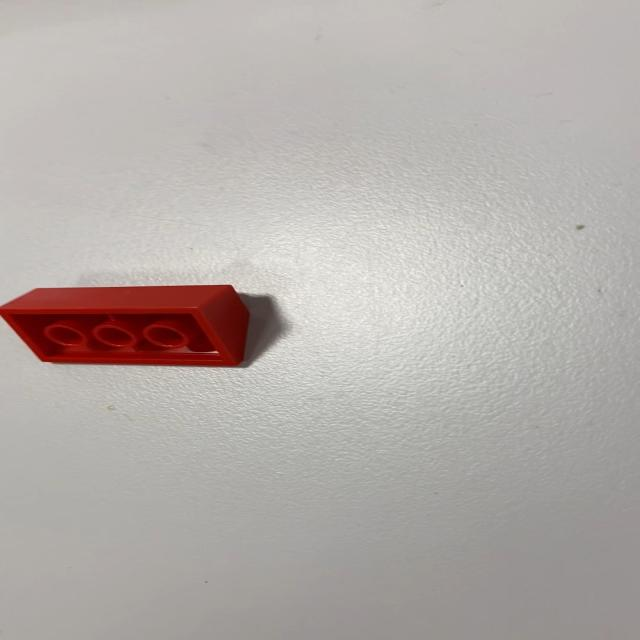P4x2x1: (0, 284, 250, 367)
